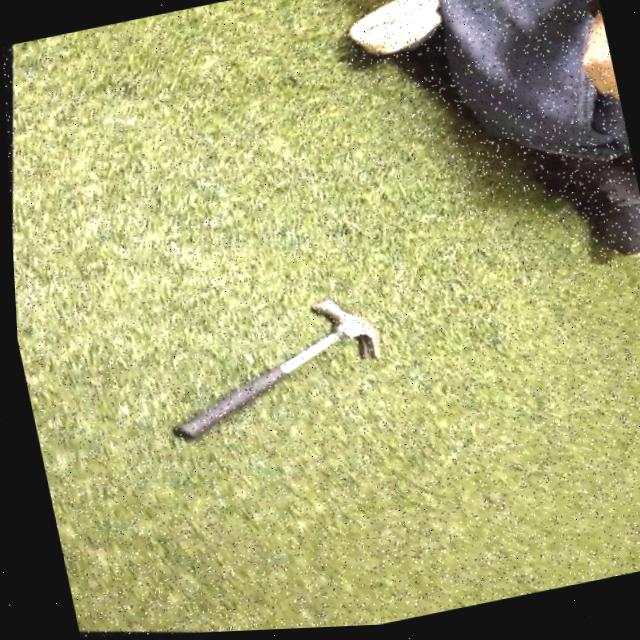hammer: (144, 292, 391, 455)
